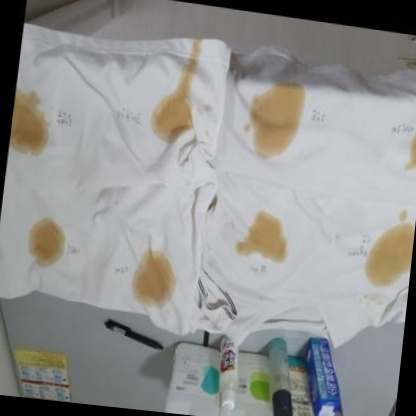coffee: (130, 253, 178, 307), (256, 88, 297, 151), (370, 227, 414, 283), (8, 102, 43, 151), (156, 95, 190, 137), (249, 219, 283, 258), (29, 223, 62, 263), (410, 134, 416, 167)
